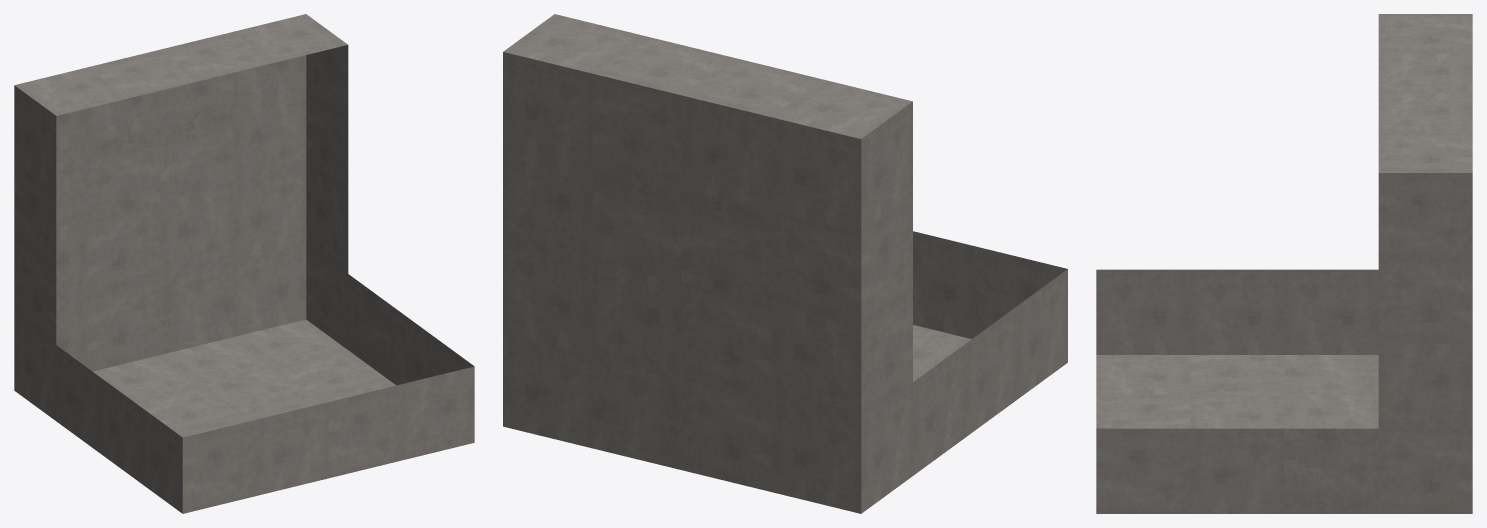
Rendered from Wall_SW.fbx.
3 views of the same model, side by side, from view 1: azimuth 30°, elevation 25°; view 2: azimuth 150°, elevation 25°; view 3: azimuth 270°, elevation 25° (orthographic). The views are drawn at different scales.
Parts seen in each view (by area): view 1: Cube.899; view 2: Cube.899; view 3: Cube.899.
Part boxes in pixels (x1,y1,x2,y2): Cube.899: (14, 14, 474, 513); Cube.899: (503, 14, 1067, 513); Cube.899: (1096, 14, 1472, 513).
Bounding box in the file's own units: 995 × 995 × 995.
